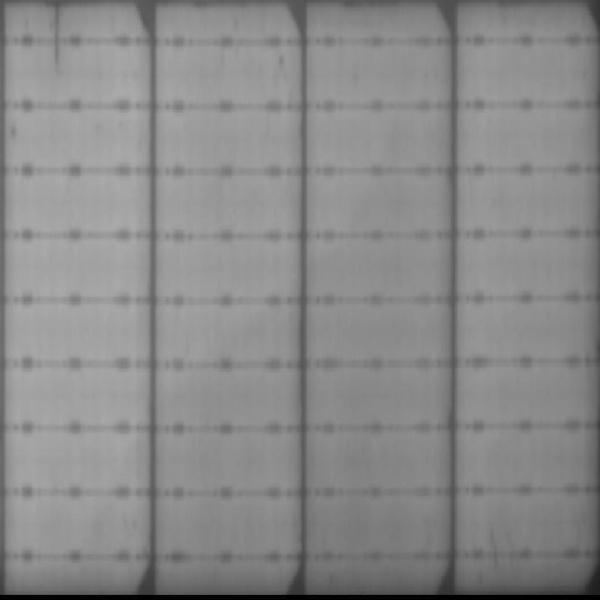scratch: (52, 6, 68, 69)
